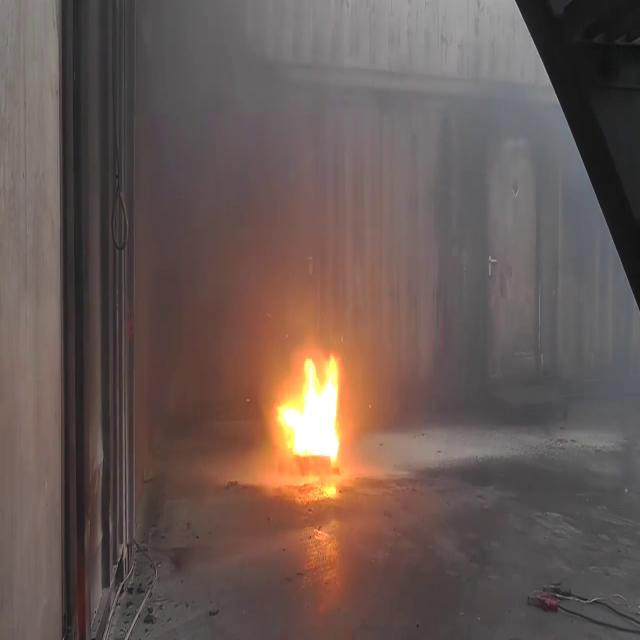Fire: (274, 345, 348, 482)
